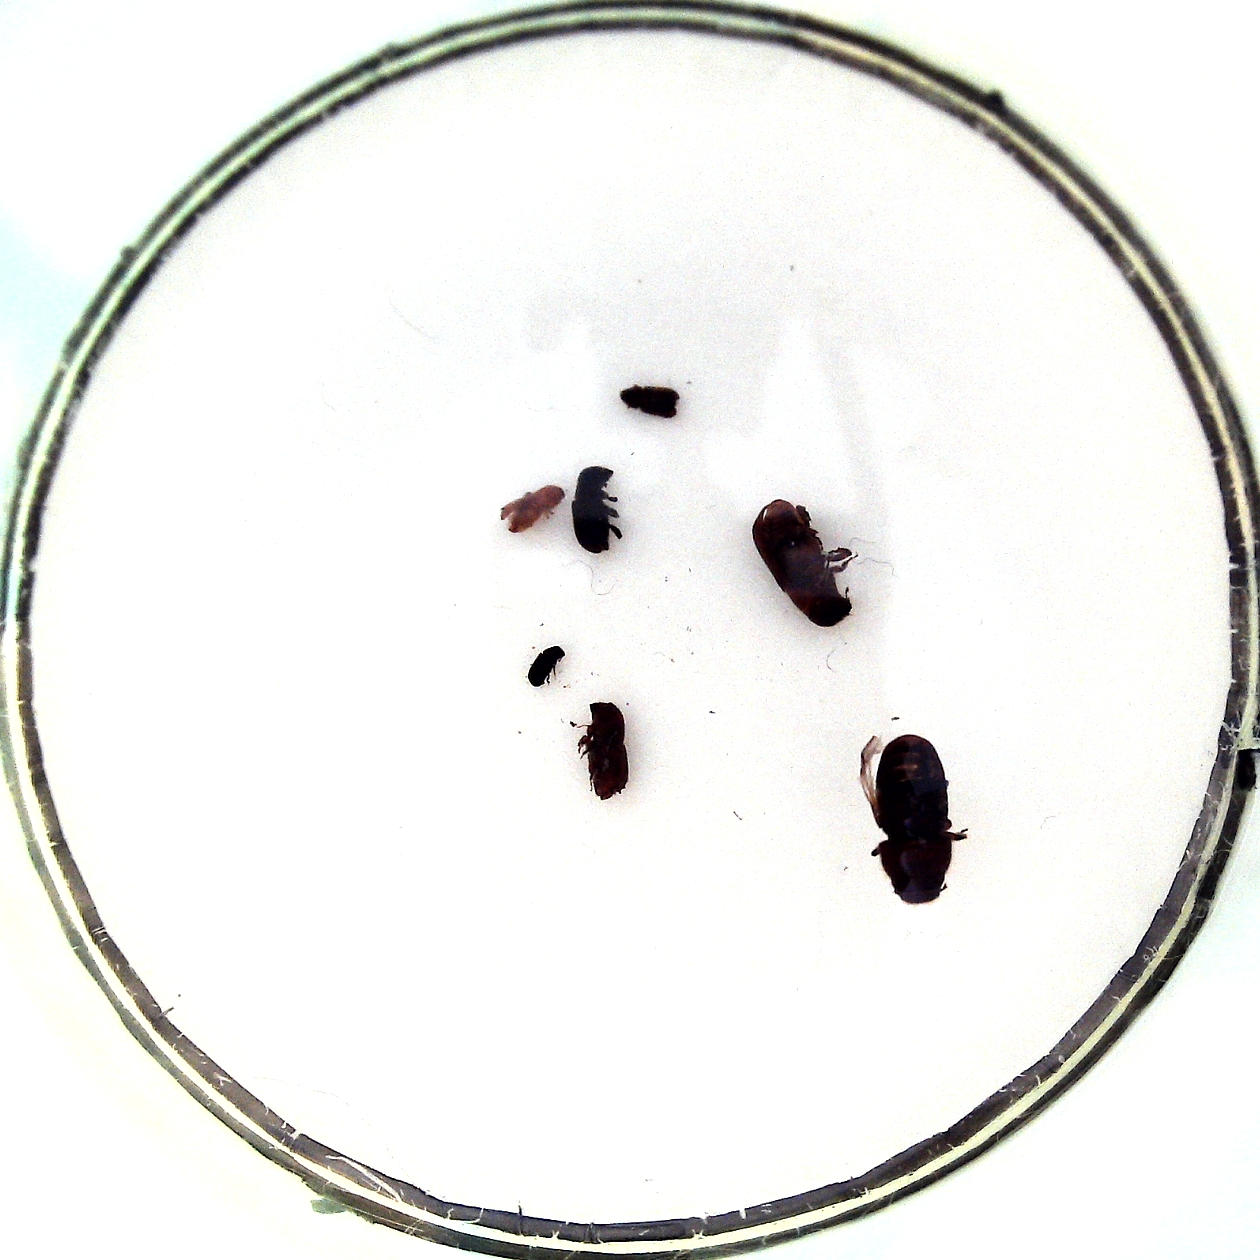Leconte: (873, 735, 952, 903), (751, 498, 853, 627)
acuminatus: (527, 646, 565, 687)
armandi: (571, 465, 615, 555)
coleoptera: (501, 485, 565, 533), (618, 387, 678, 419)
linnaeus: (584, 703, 628, 801)
